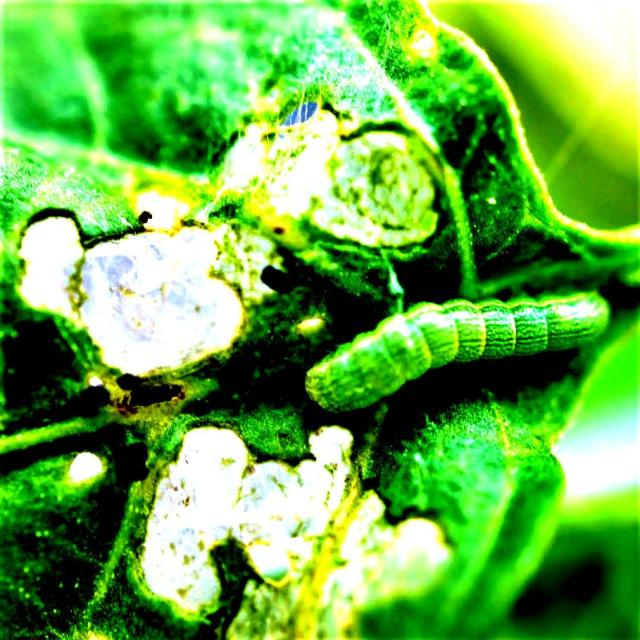armyworm: (302, 285, 616, 416)
